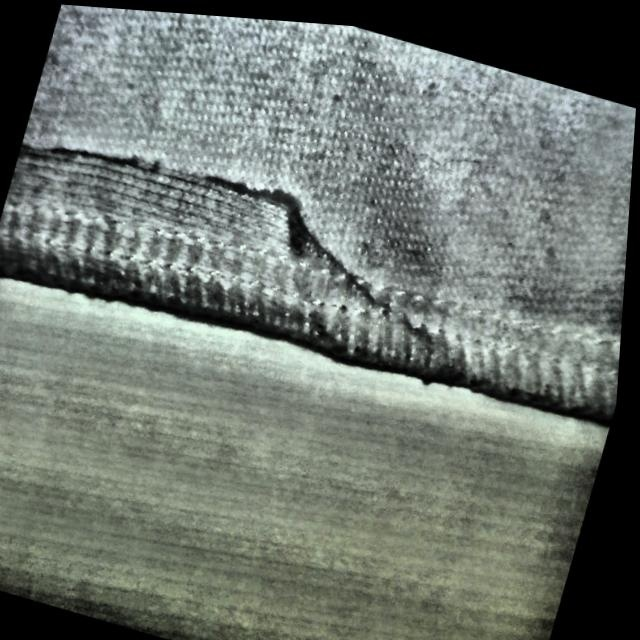seam: (0, 65, 390, 375)
